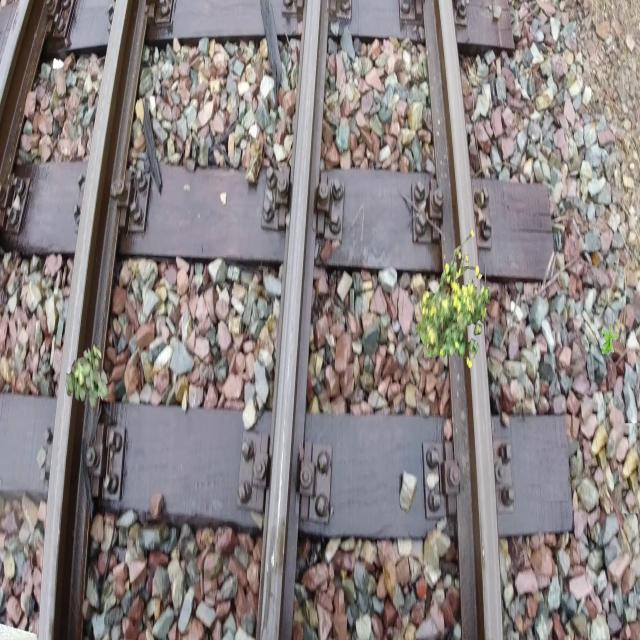Plant: (416, 229, 491, 369), (65, 343, 109, 410), (602, 325, 620, 357)
